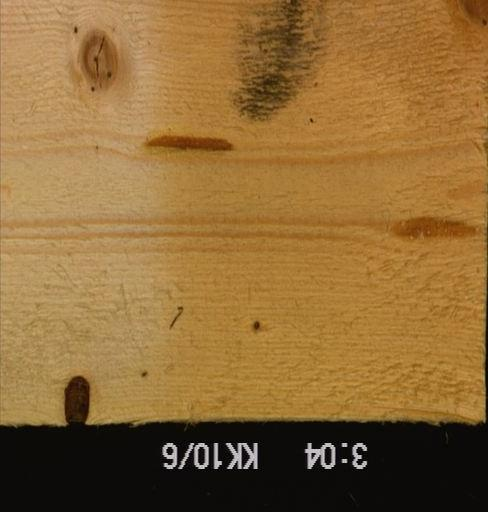edge_knot: (454, 0, 486, 25)
small_knot: (252, 319, 260, 331)
sound_knot: (76, 27, 119, 95)
